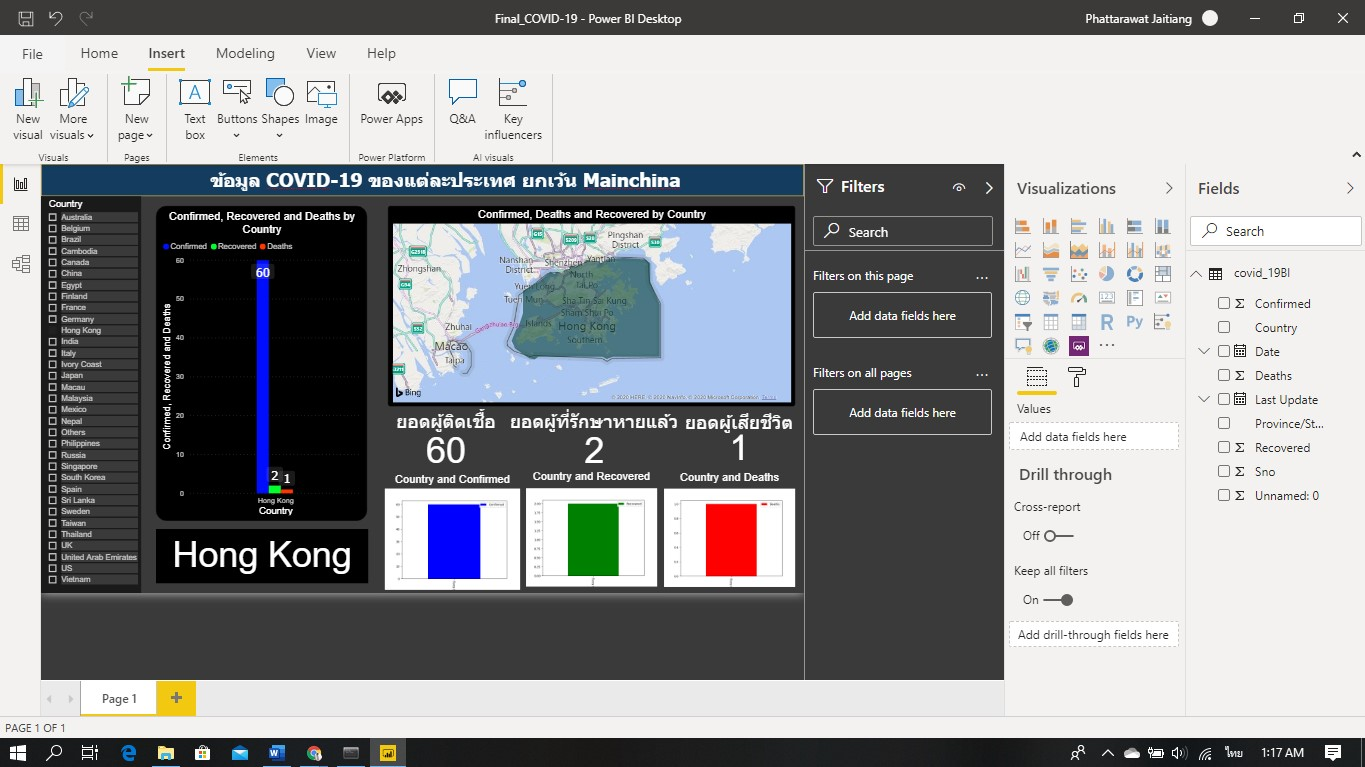

What the dashboard file says about the page in this screenshot:
{"tool":"powerbi","page":{"name":"Page 1","canvas":[1280,720],"ordinal":0},"visuals":[{"type":"pythonVisual","fields":{"Values":["covid_19BI.Country","covid_19BI.Confirmed"]},"box":[572.1,518.4,236.5,201.3],"z":0},{"type":"textbox","box":[0,0,1279.5,53],"z":1000},{"type":"pythonVisual","fields":{"Values":["covid_19BI.Country","covid_19BI.Recovered"]},"box":[808.6,513.3,229.8,204.7],"z":2000},{"type":"card","title":"ยอดผู้ติดเชื้อ","fields":{"Values":["Sum(covid_19BI.Confirmed)"]},"box":[574.9,411.6,207.9,101.9],"z":3000},{"type":"card","title":"ยอดผู้เสียชีวิต","fields":{"Values":["Sum(covid_19BI.Deaths)"]},"box":[1073,411.6,195.3,101.9],"z":4000},{"type":"card","title":"ยอดผู้ที่รักษาหายแล้ว","fields":{"Values":["Sum(covid_19BI.Recovered)"]},"box":[778.6,411.6,298.6,101.9],"z":5000},{"type":"filledMap","fields":{"Category":["covid_19BI.Country"]},"box":[572.1,65.6,693.5,322.3],"z":6000},{"type":"slicer","fields":{"Values":["covid_19BI.Country"]},"box":[0,65.4,167.8,654.3],"z":7000},{"type":"card","fields":{"Values":["Min(covid_19BI.Country)"]},"box":[192.9,612.3,355.6,90.6],"z":8000},{"type":"clusteredColumnChart","fields":{"Category":["covid_19BI.Country"],"Y":["Sum(covid_19BI.Confirmed)","Sum(covid_19BI.Recovered)","Sum(covid_19BI.Deaths)"]},"box":[180,65.6,380.9,533],"z":9000},{"type":"pythonVisual","fields":{"Values":["covid_19BI.Country","covid_19BI.Deaths"]},"box":[1040.1,515,229.8,203],"z":10000}]}

Visuals, with their boxes on the page's 1280x720 design canvas (x1, y1, x2, y2). These are canvas units, not pixel positions in the 1365x767 screenshot, which may show the page scaled, cropped or inside an application window:
pythonVisual - covid_19BI.Country x covid_19BI.Confirmed: 572:518:809:720
textbox: 0:0:1280:53
pythonVisual - covid_19BI.Country x covid_19BI.Recovered: 809:513:1038:718
"ยอดผู้ติดเชื้อ" card: 575:412:783:514
"ยอดผู้เสียชีวิต" card: 1073:412:1268:514
"ยอดผู้ที่รักษาหายแล้ว" card: 779:412:1077:514
filledMap - covid_19BI.Country: 572:66:1266:388
slicer - covid_19BI.Country: 0:65:168:720
card - Min(covid_19BI.Country): 193:612:548:703
clusteredColumnChart - covid_19BI.Country x Sum(covid_19BI.Confirmed): 180:66:561:599
pythonVisual - covid_19BI.Country x covid_19BI.Deaths: 1040:515:1270:718
